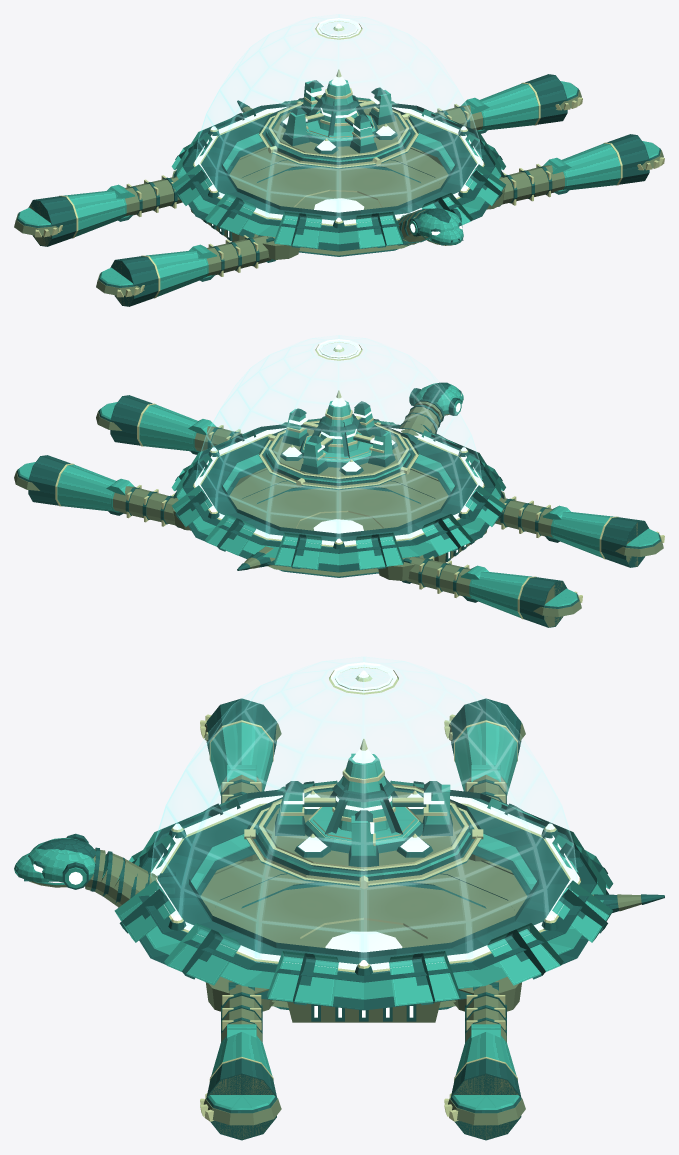
The model's file is arachno_nomad_walker.glb.
The picture shows the model from 3 angles, top to bottom: view 1: azimuth 30°, elevation 25°; view 2: azimuth 150°, elevation 25°; view 3: azimuth 270°, elevation 25°; orthographic projection. The views are drawn at different scales.
Visible parts, largest first — view 1: Hull_Body, Biome_Gimbal_Assembly, Leg_RR_Tibia, Leg_FR_Tibia, Leg_FL_Tibia, Leg_RL_Tibia, Neck_Assembly, Leg_FL_Femur, Leg_FR_Femur, Leg_RL_Femur, Leg_RR_Femur, Leg_FL_Foot (+4 smaller); view 2: Hull_Body, Biome_Gimbal_Assembly, Leg_FR_Tibia, Leg_RR_Tibia, Leg_RL_Tibia, Leg_FL_Tibia, Neck_Assembly, Leg_RL_Femur, Leg_RR_Femur, Leg_FL_Femur, Leg_FR_Femur, Leg_RL_Foot (+2 smaller); view 3: Hull_Body, Biome_Gimbal_Assembly, Neck_Assembly, Leg_RL_Tibia, Leg_FL_Tibia, Leg_FR_Tibia, Leg_RR_Tibia, Leg_RR_Foot, Leg_FR_Foot, Leg_FR_Femur, Leg_RR_Femur, Turret_Assembly (+2 smaller).
Part boxes in pixels (x1,y1,x2,y2): Hull_Body: [171, 14, 505, 259]; Biome_Gimbal_Assembly: [259, 69, 418, 168]; Leg_RR_Tibia: [480, 74, 567, 130]; Leg_FR_Tibia: [562, 134, 649, 189]; Leg_FL_Tibia: [110, 251, 208, 306]; Leg_RL_Tibia: [28, 191, 126, 246]; Neck_Assembly: [397, 208, 463, 245]; Leg_FL_Femur: [189, 235, 270, 281]; Leg_FR_Femur: [499, 157, 571, 205]; Leg_RL_Femur: [107, 175, 182, 221]; Leg_RR_Femur: [435, 97, 489, 133]; Leg_FL_Foot: [96, 267, 144, 297]; Hull_Body: [171, 335, 505, 580]; Biome_Gimbal_Assembly: [259, 390, 418, 489]; Leg_FR_Tibia: [110, 395, 197, 451]; Leg_RR_Tibia: [28, 455, 115, 511]; Leg_RL_Tibia: [469, 572, 567, 627]; Leg_FL_Tibia: [551, 512, 649, 567]; Neck_Assembly: [399, 382, 463, 436]; Leg_RL_Femur: [406, 556, 488, 602]; Leg_RR_Femur: [106, 478, 178, 526]; Leg_FL_Femur: [495, 496, 570, 542]; Leg_FR_Femur: [188, 419, 242, 454]; Leg_RL_Foot: [533, 588, 582, 616]; Hull_Body: [114, 657, 664, 1022]; Biome_Gimbal_Assembly: [244, 739, 483, 888]; Neck_Assembly: [14, 833, 159, 907]; Leg_RL_Tibia: [451, 698, 521, 795]; Leg_FL_Tibia: [206, 698, 276, 795]; Leg_FR_Tibia: [206, 1032, 276, 1140]; Leg_RR_Tibia: [451, 1032, 521, 1140]; Leg_RR_Foot: [444, 1093, 525, 1125]; Leg_FR_Foot: [200, 1093, 281, 1125]; Leg_FR_Femur: [221, 984, 262, 1042]; Leg_RR_Femur: [465, 984, 506, 1042]; Turret_Assembly: [329, 662, 398, 694].
Size of the model in its own units: 64.7 by 21.61 by 43.71.
Materials: 6 (6 with a texture image).
